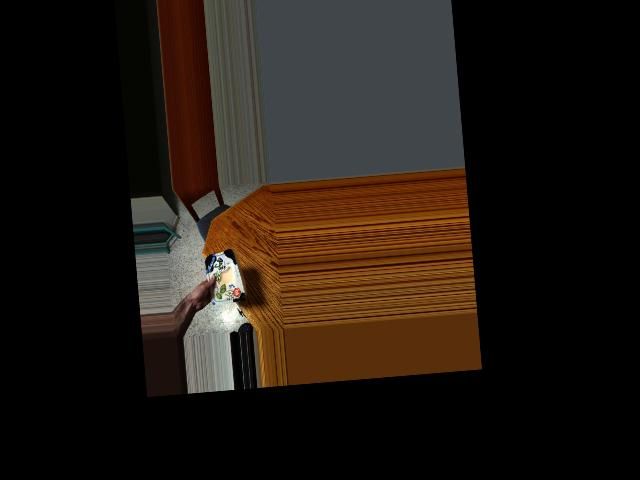cheese: (197, 252, 244, 298)
